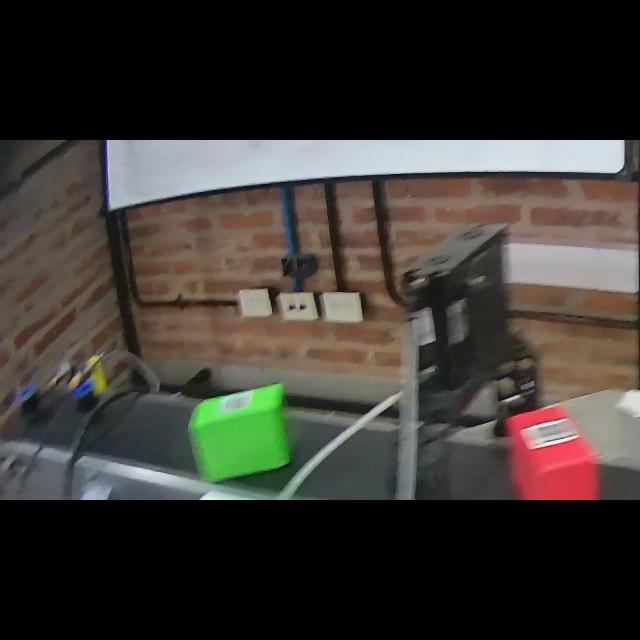greenBox: (186, 377, 292, 489)
redBox: (503, 402, 601, 500)
